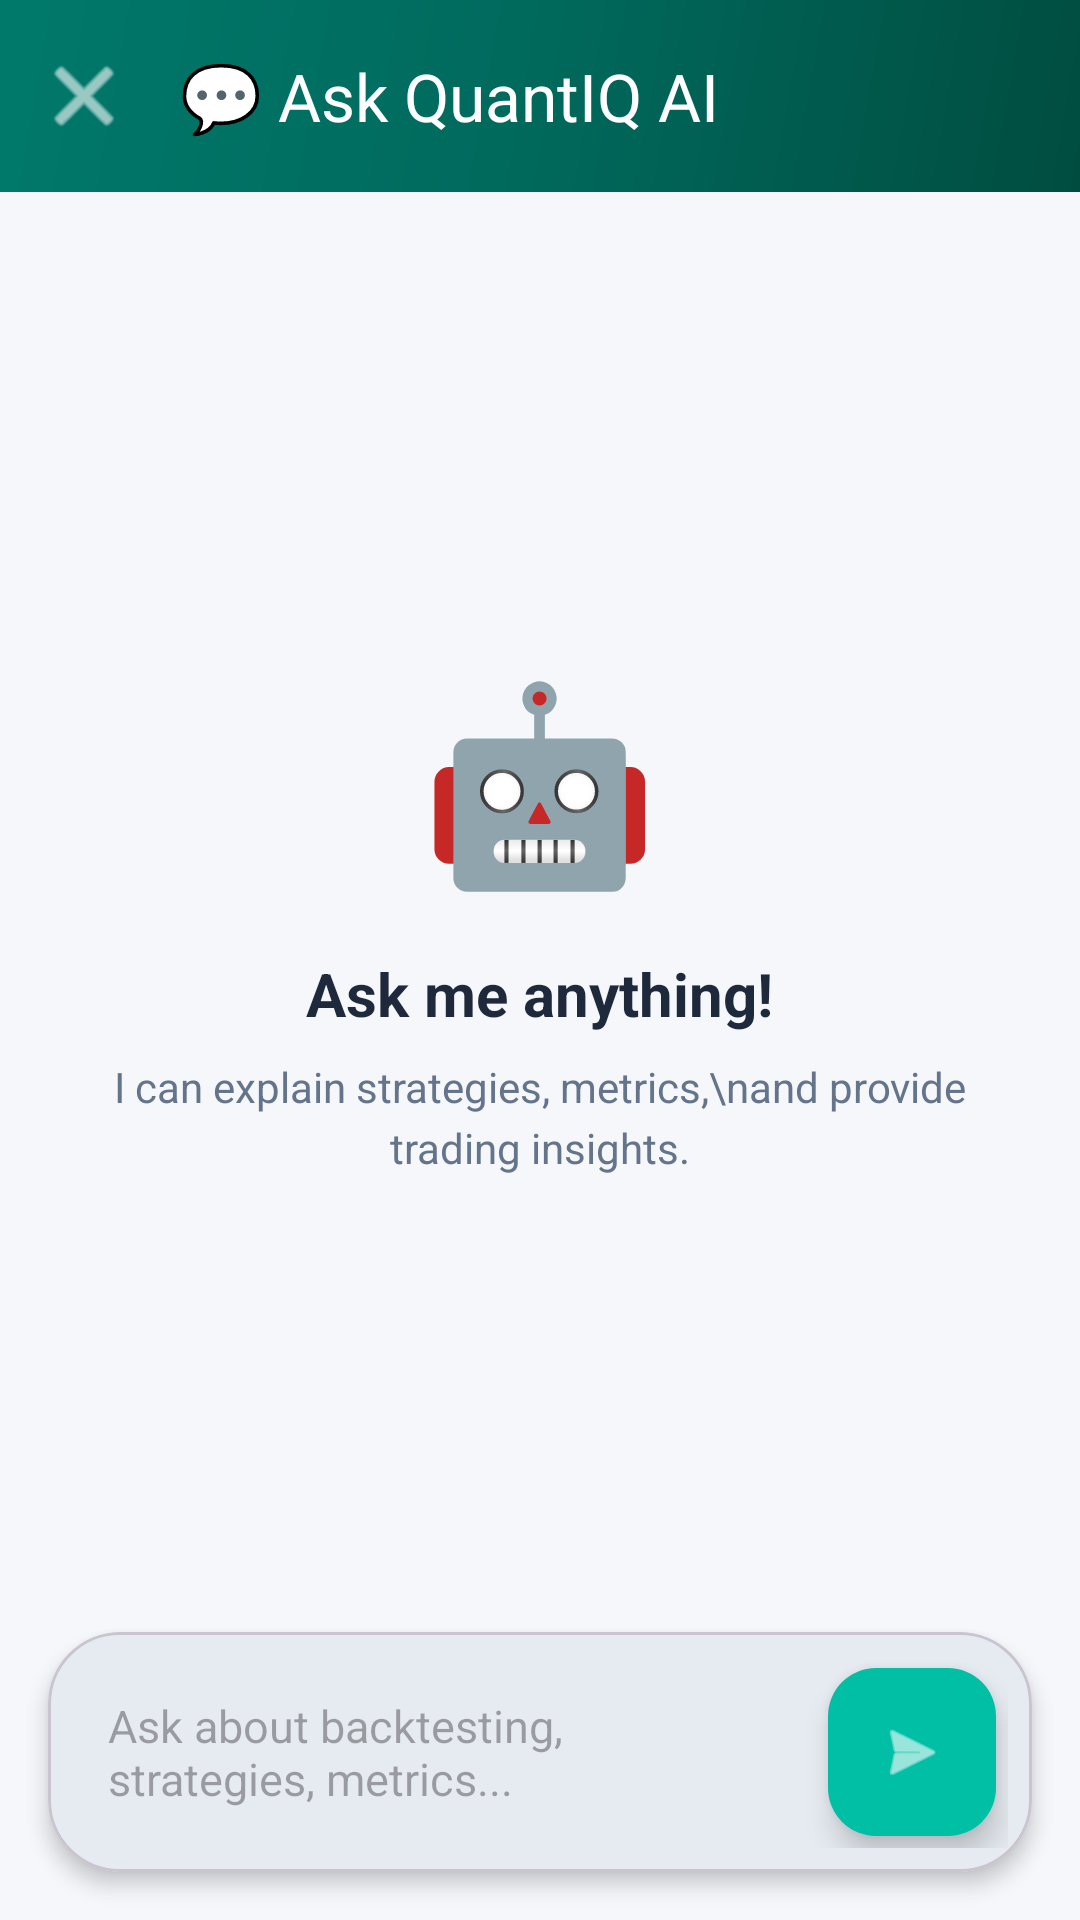

Named icons in this screenshot (1080×1920) and their bounding boxes, (x1, y1, x2, y2):
send: (828, 1668, 996, 1836)
